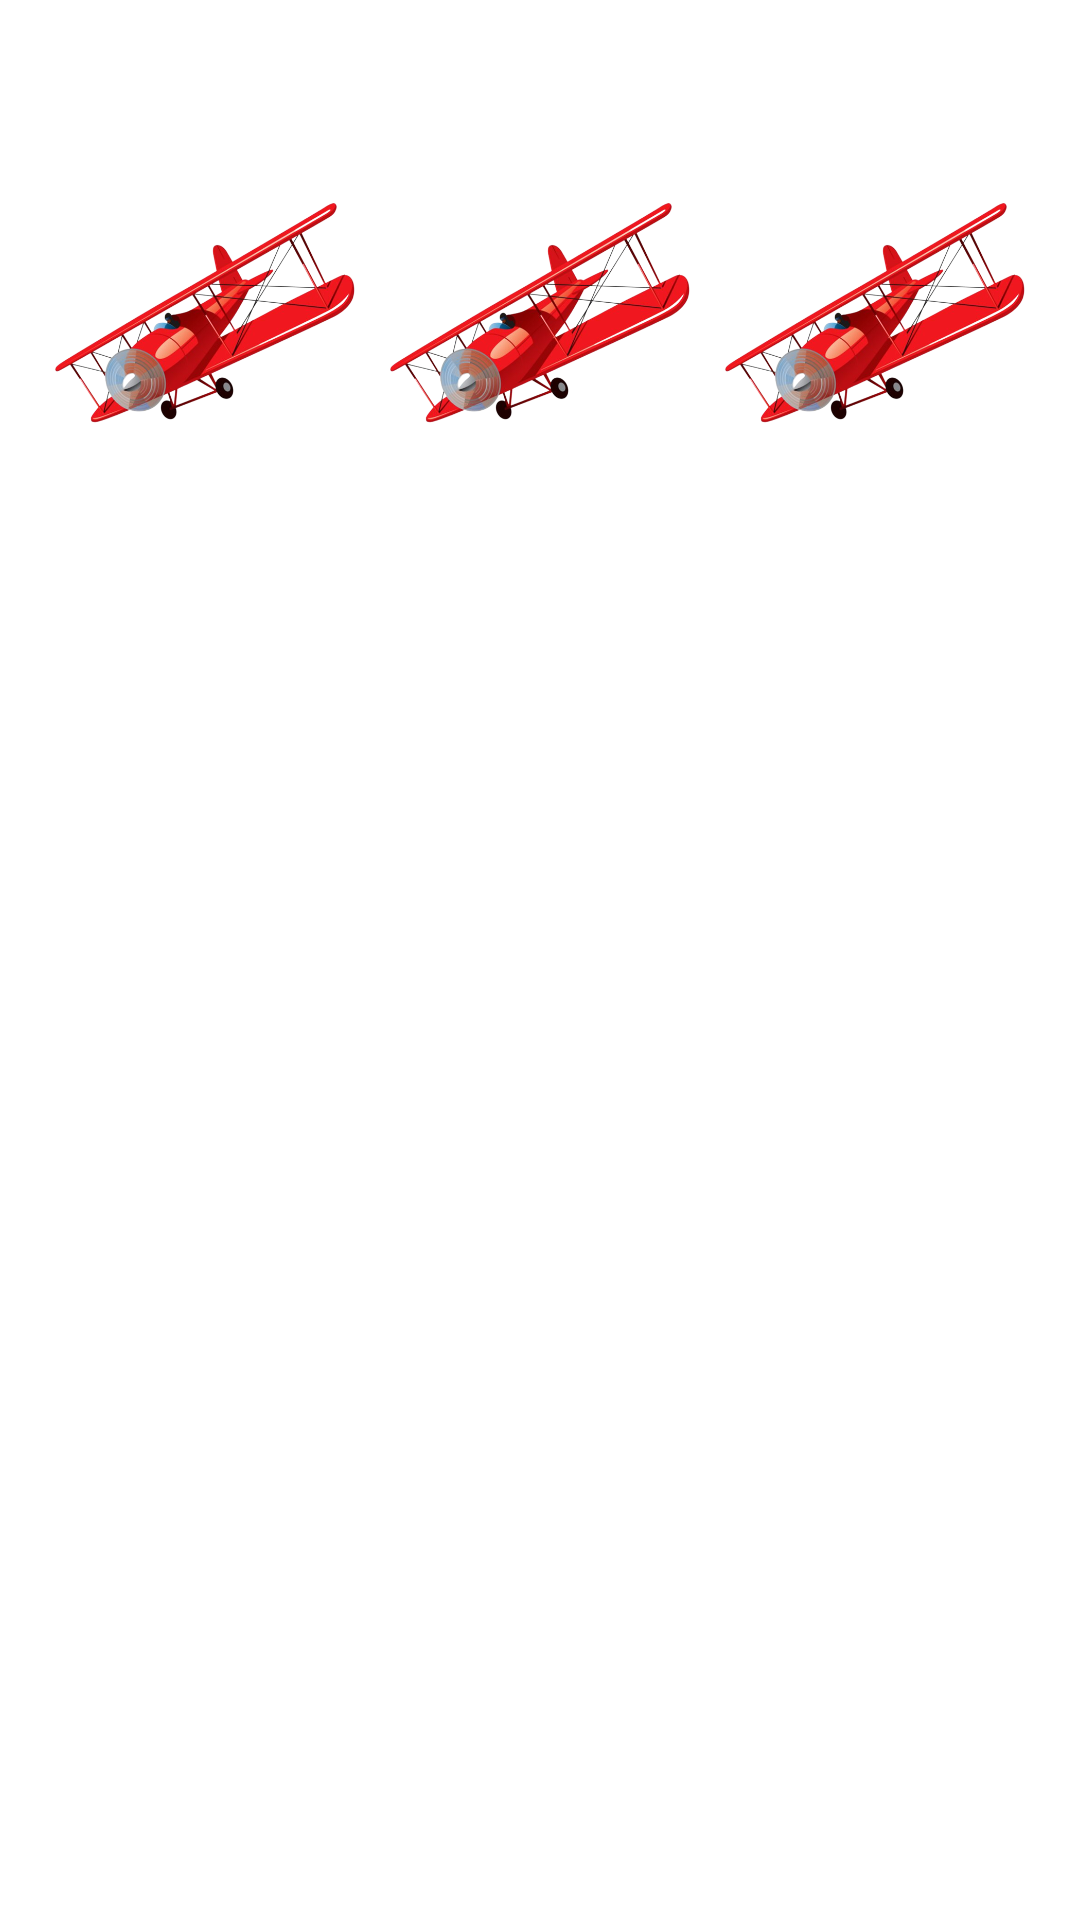

Locate icon controls on the screen. Image size 1080 x 1920, boxes as [x1, y1, x2, y2].
airplane good: [55, 203, 355, 423], [390, 203, 690, 423], [725, 203, 1025, 423]
